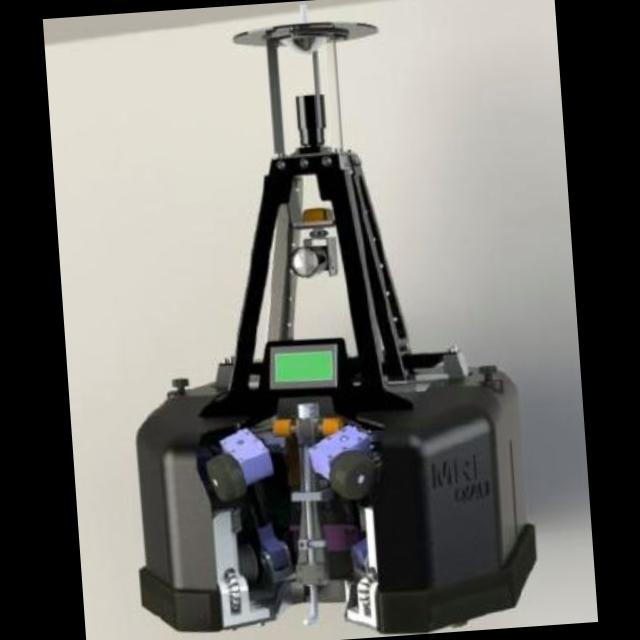robot: (138, 0, 536, 635)
